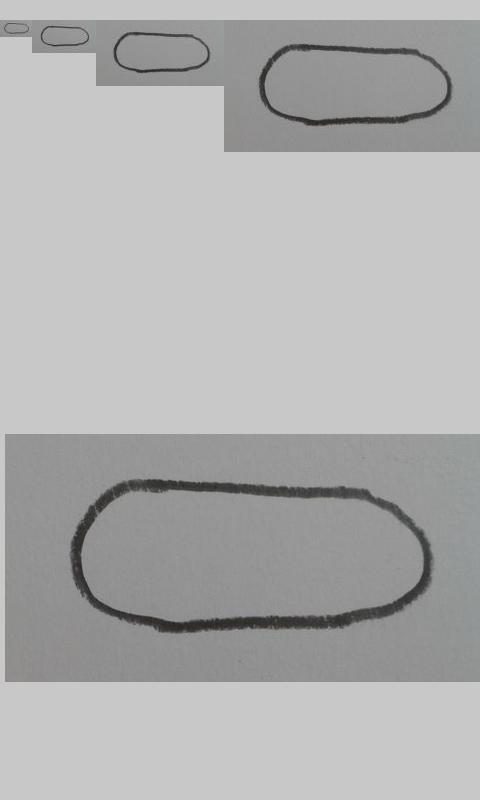chip: (66, 478, 435, 634), (258, 43, 454, 127), (112, 32, 211, 74), (40, 26, 90, 48), (4, 22, 30, 34)
